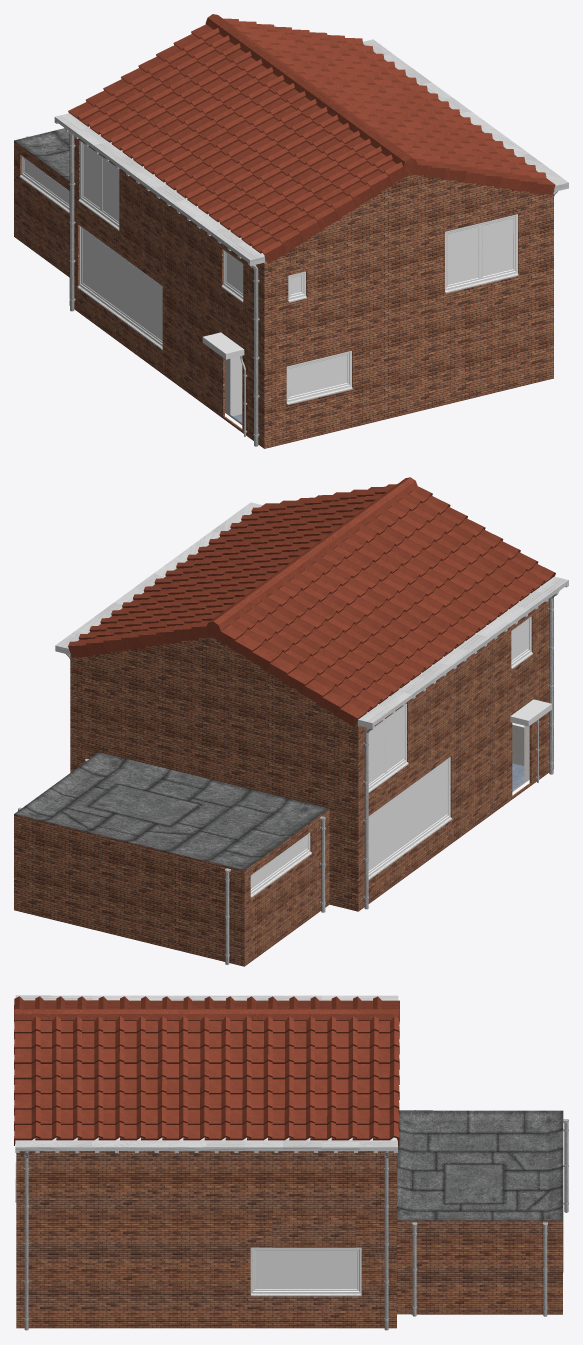
Rendered from house.fbx.
3 views of the same model, one above another, from view 1: azimuth 30°, elevation 25°; view 2: azimuth 150°, elevation 25°; view 3: azimuth 270°, elevation 25° (orthographic). The views are drawn at different scales.
Visible parts, largest first — view 1: houseAll; view 2: houseAll; view 3: houseAll.
Part boxes in pixels (left/top/right/bottom): houseAll: left=14, top=14, right=568, bottom=448; houseAll: left=14, top=477, right=568, bottom=966; houseAll: left=14, top=995, right=568, bottom=1330.
Size of the model in its own units: 13.93 by 10.58 by 21.28.
